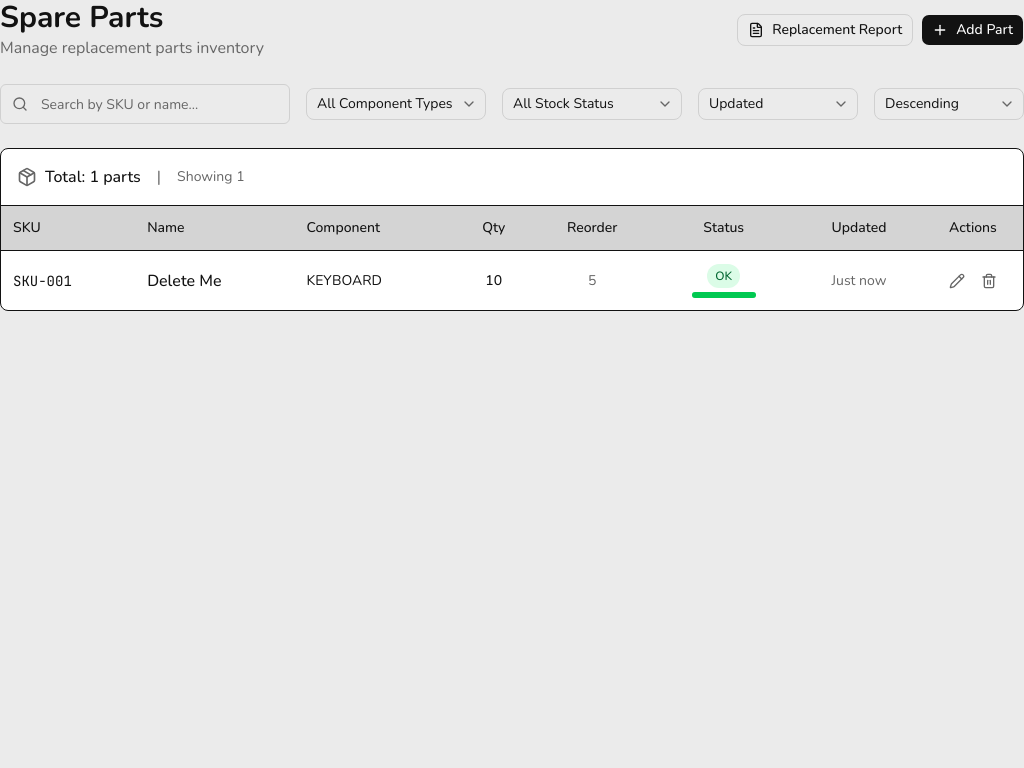
Test case: InventoryClient › shows delete confirmation dialog
The image size is (1024, 768).
Click the button titled "Delete": (989, 280) [975,266,1003,294]
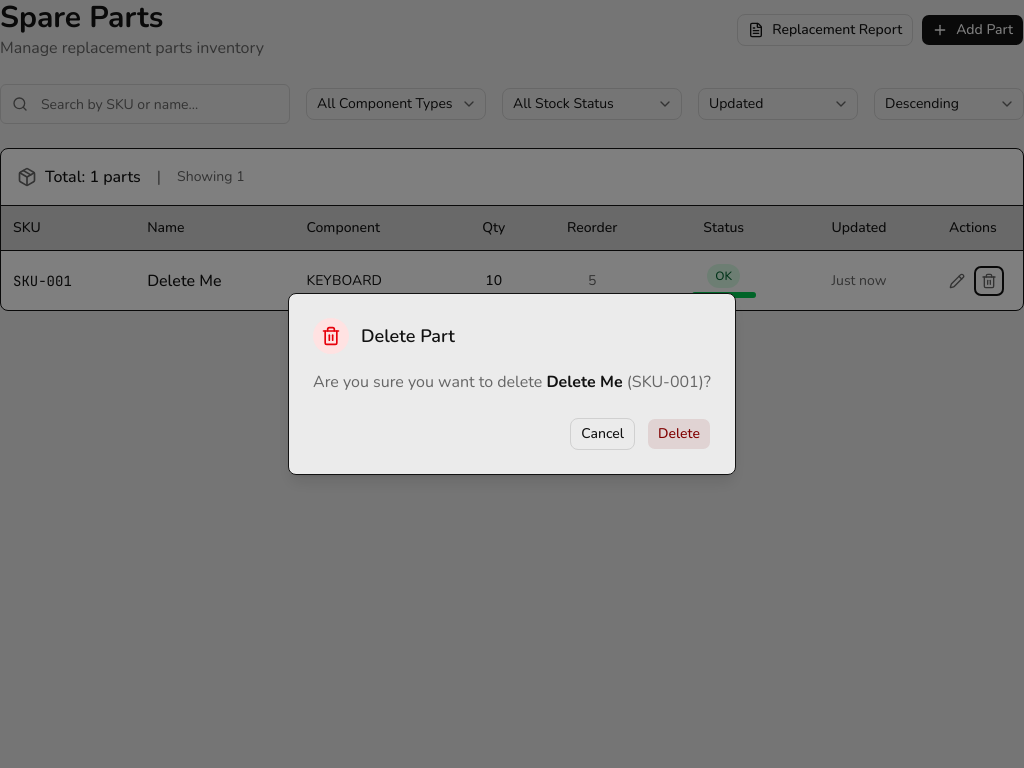
expect the text "Are you sure you want to delete Delete Me (SKU-001)?" is shown: met, box [313,370,711,394]
